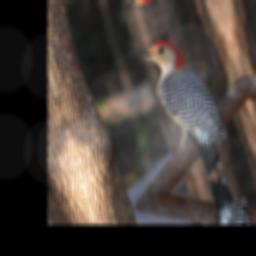Woodpecker: (126, 25, 236, 190)
